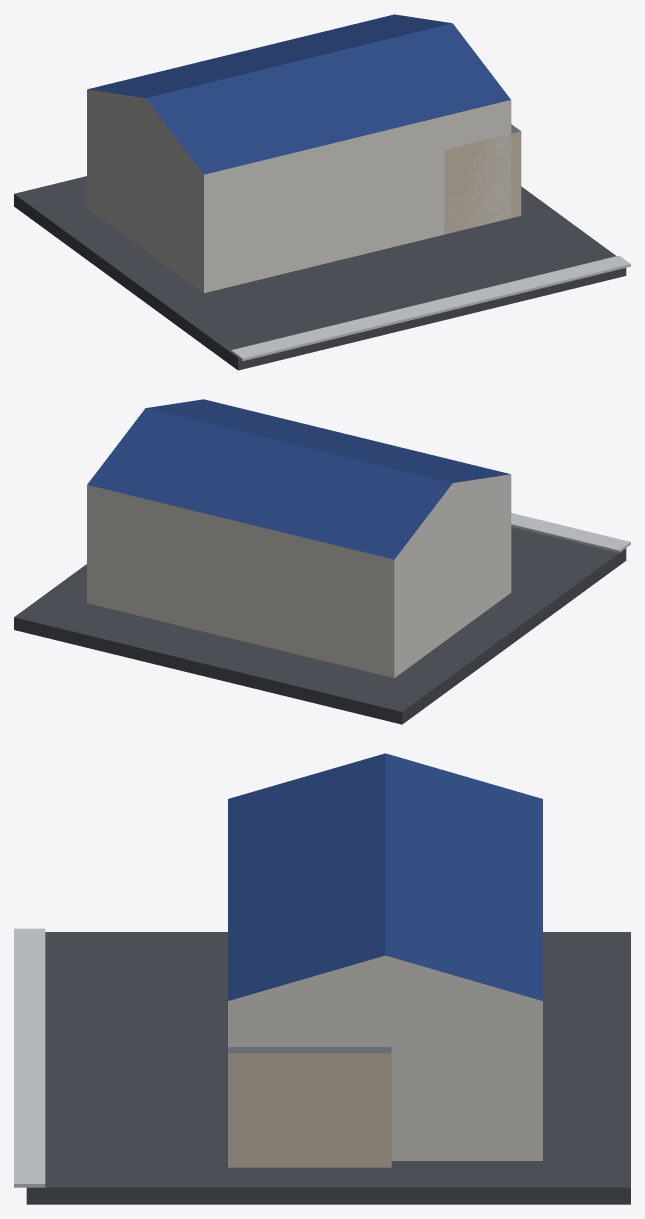
The picture shows the model from 3 angles, top to bottom: view 1: azimuth 30°, elevation 25°; view 2: azimuth 150°, elevation 25°; view 3: azimuth 270°, elevation 25°; orthographic projection. The views are drawn at different scales.
Visible parts, largest first — view 1: b36_v2_lod2; view 2: b36_v2_lod2; view 3: b36_v2_lod2.
Part boxes in pixels (x1,y1,x2,y2): b36_v2_lod2: [14, 14, 630, 370]; b36_v2_lod2: [14, 399, 630, 724]; b36_v2_lod2: [14, 753, 630, 1204].
Bounding box in the file's own units: 0.96 × 0.39 × 0.98.
